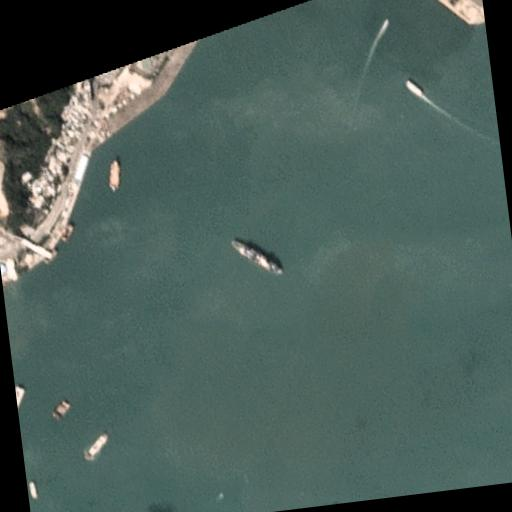ship: (422, 0, 500, 53), (228, 232, 284, 280), (80, 431, 112, 461), (104, 157, 122, 192), (48, 396, 72, 420), (402, 76, 424, 100), (58, 220, 76, 241), (330, 75, 397, 79), (27, 479, 37, 499), (381, 18, 388, 27)
